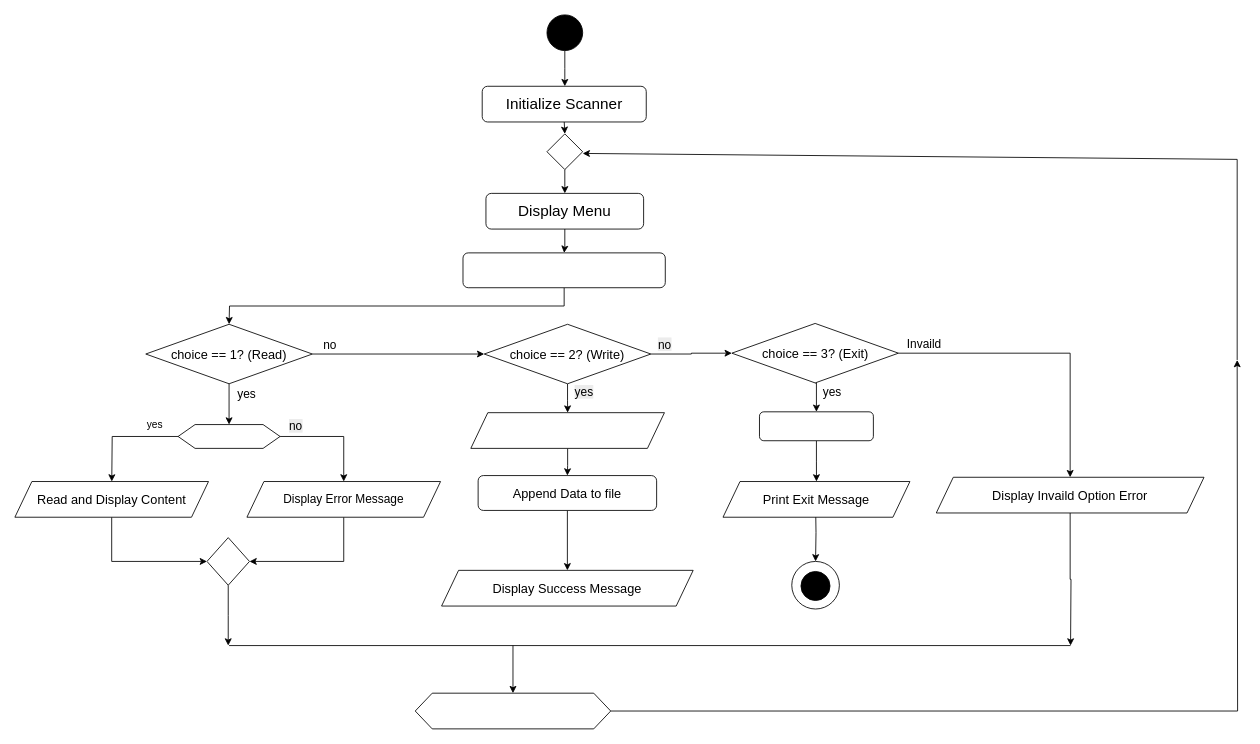
The diagram is 1260 pixels wide and 744 high, and some of its shapes have lost their labels. Here are the shapes that lost their labels. From the top down, the centre of each, then its label:
point (563, 270): Read User Choice
point (228, 436): File Exists?
point (567, 430): Prompt for keyword input
point (816, 426): Close Scanner
point (512, 710): User didn't Select Exit
